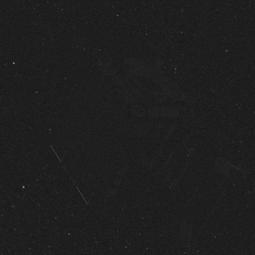proba_2: (44, 128, 238, 196)
